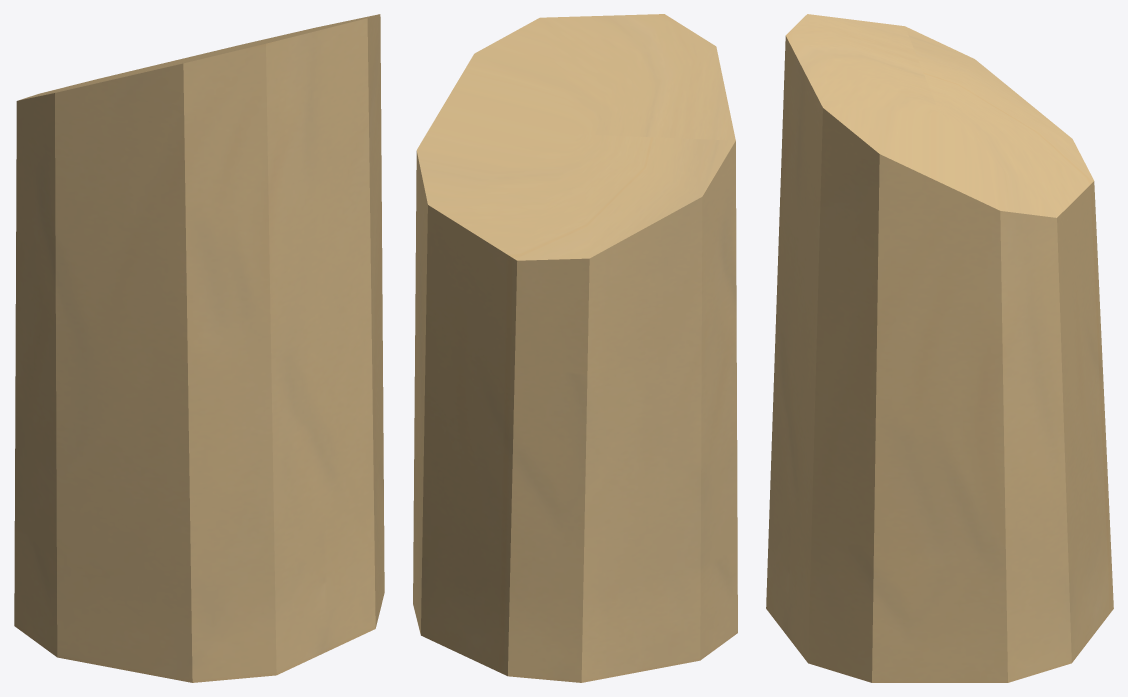
The model's file is ColumnC.FBX.
3 views of the same model, side by side, from view 1: azimuth 30°, elevation 25°; view 2: azimuth 150°, elevation 25°; view 3: azimuth 270°, elevation 25° (orthographic). The views are drawn at different scales.
Parts seen in each view (by area): view 1: ColumnC; view 2: ColumnC; view 3: ColumnC.
Boxes of the visible parts, x1,y1,x2,y2 form: ColumnC: [14, 14, 384, 682]; ColumnC: [413, 14, 737, 682]; ColumnC: [766, 14, 1113, 682].
Bounding box in the file's own units: 7.87 × 8.27 × 15.05.
Materials: 1 (1 with a texture image).
